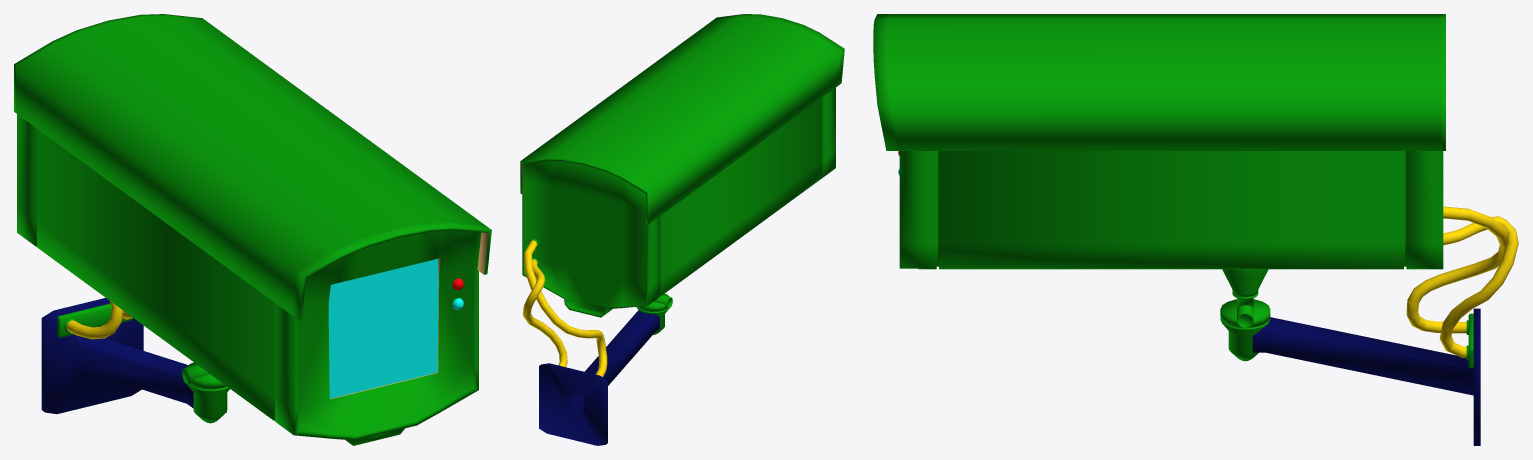
File: camModel.fbx
The picture shows the model from 3 angles, left to right: view 1: azimuth 30°, elevation 25°; view 2: azimuth 150°, elevation 25°; view 3: azimuth 270°, elevation 25°; orthographic projection. The views are drawn at different scales.
Parts seen in each view (by area): view 1: CCTV_Camera_low (×2); view 2: CCTV_Camera_low (×2); view 3: CCTV_Camera_low (×2).
Part boxes in pixels (x1=…): CCTV_Camera_low (×2): x1=14, y1=14, x2=491, y2=445; CCTV_Camera_low (×2): x1=520, y1=14, x2=844, y2=445; CCTV_Camera_low (×2): x1=873, y1=14, x2=1518, y2=445.
Bounding box in the file's own units: 0.663 × 1.33 × 2.
